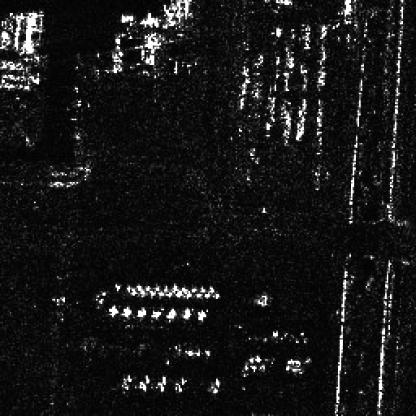airplane: (134, 283, 142, 291), (141, 284, 150, 291), (146, 290, 153, 298), (169, 284, 177, 291), (193, 292, 202, 298), (210, 292, 219, 298), (125, 284, 132, 291), (138, 289, 145, 296), (114, 283, 120, 291), (130, 288, 136, 296), (161, 284, 167, 292), (184, 291, 190, 299), (206, 286, 214, 292), (180, 286, 187, 292), (198, 286, 205, 292), (203, 291, 210, 297), (164, 291, 172, 296), (152, 286, 158, 292), (174, 291, 180, 297), (156, 291, 162, 296), (190, 286, 195, 292)
